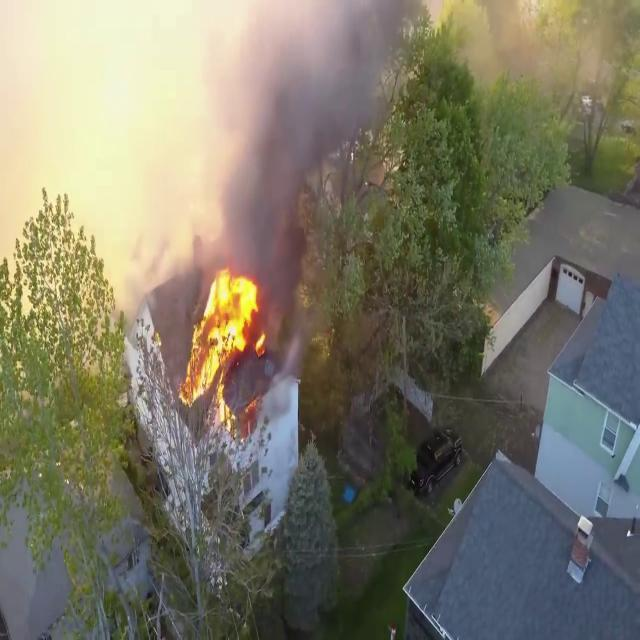Fire: (180, 260, 270, 419)
Smoke: (187, 0, 425, 281)
